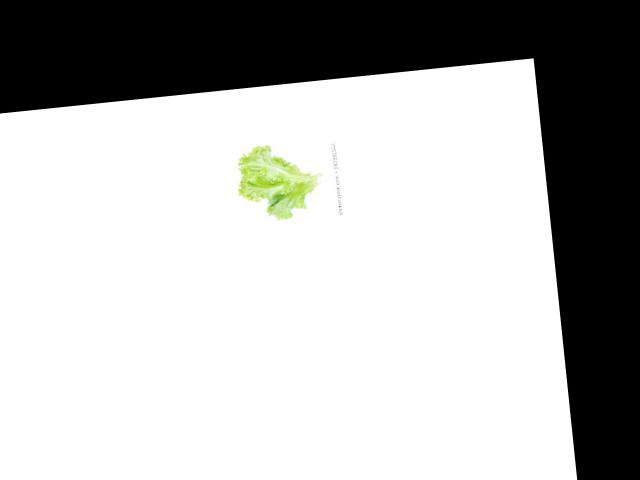lettuce: (232, 139, 332, 226)
